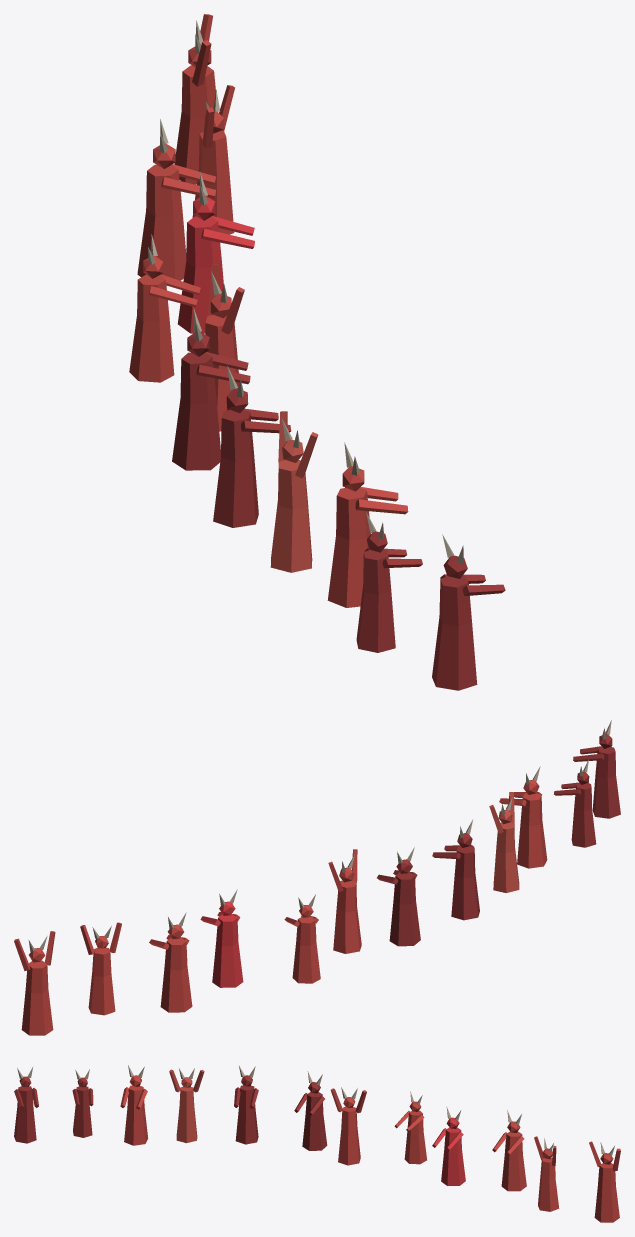
File: Stands_8_0_0.obj
The picture shows the model from 3 angles, top to bottom: view 1: azimuth 30°, elevation 25°; view 2: azimuth 150°, elevation 25°; view 3: azimuth 270°, elevation 25°; orthographic projection. The views are drawn at different scales.
Visible parts, largest first — view 1: Stands_8_0_0; view 2: Stands_8_0_0; view 3: Stands_8_0_0.
Part boxes in pixels (bbox=[...]): Stands_8_0_0: bbox=[129, 14, 505, 690]; Stands_8_0_0: bbox=[14, 720, 620, 1035]; Stands_8_0_0: bbox=[14, 1065, 620, 1222].
Size of the model in its own units: 11.63 by 4.26 by 31.28.
1 material, 1 textured.
